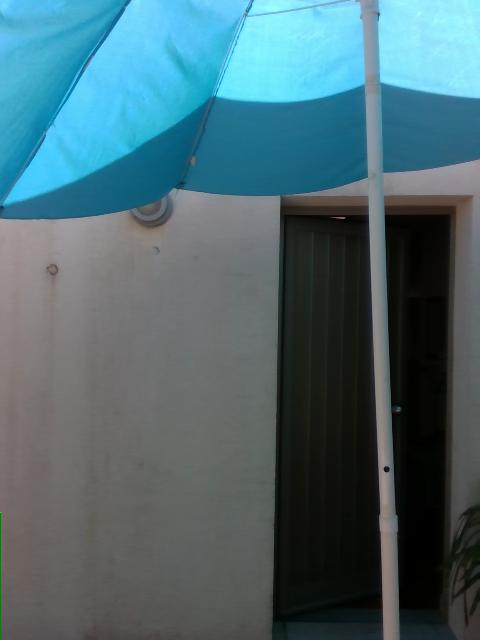semi_door: (267, 192, 473, 625)
